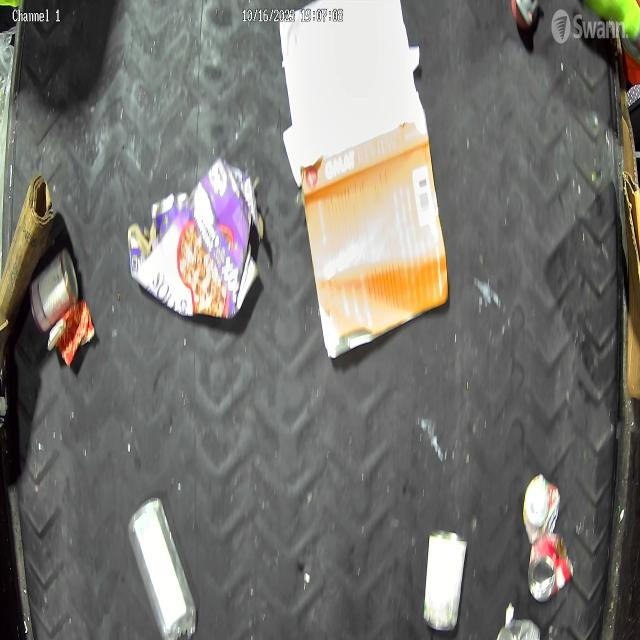can: (27, 245, 80, 336), (423, 528, 468, 634), (527, 534, 575, 603), (522, 472, 562, 543)
plastic_bottle: (128, 494, 197, 640)
